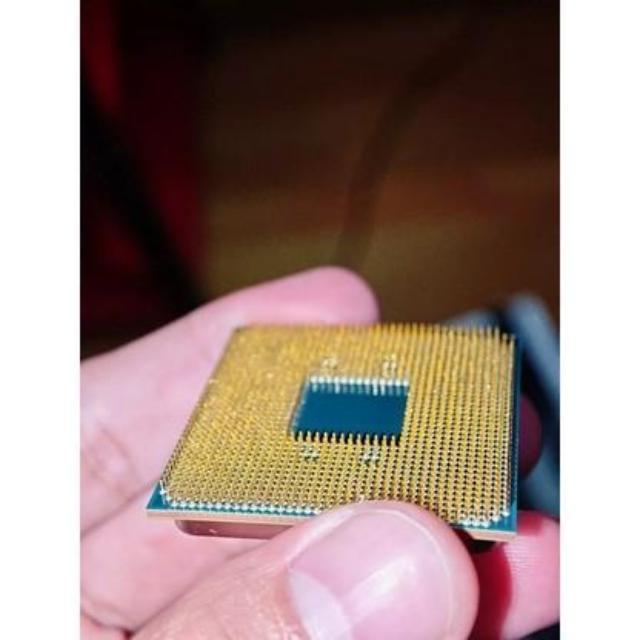CPU: (145, 328, 530, 538)
